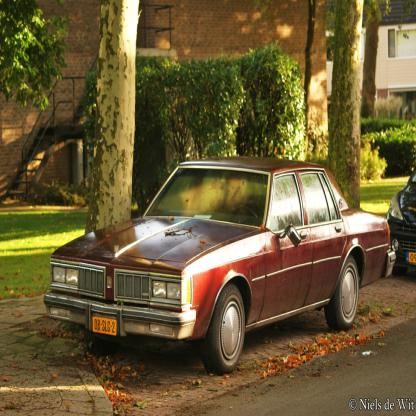Car: (47, 162, 388, 374), (385, 166, 416, 269)
